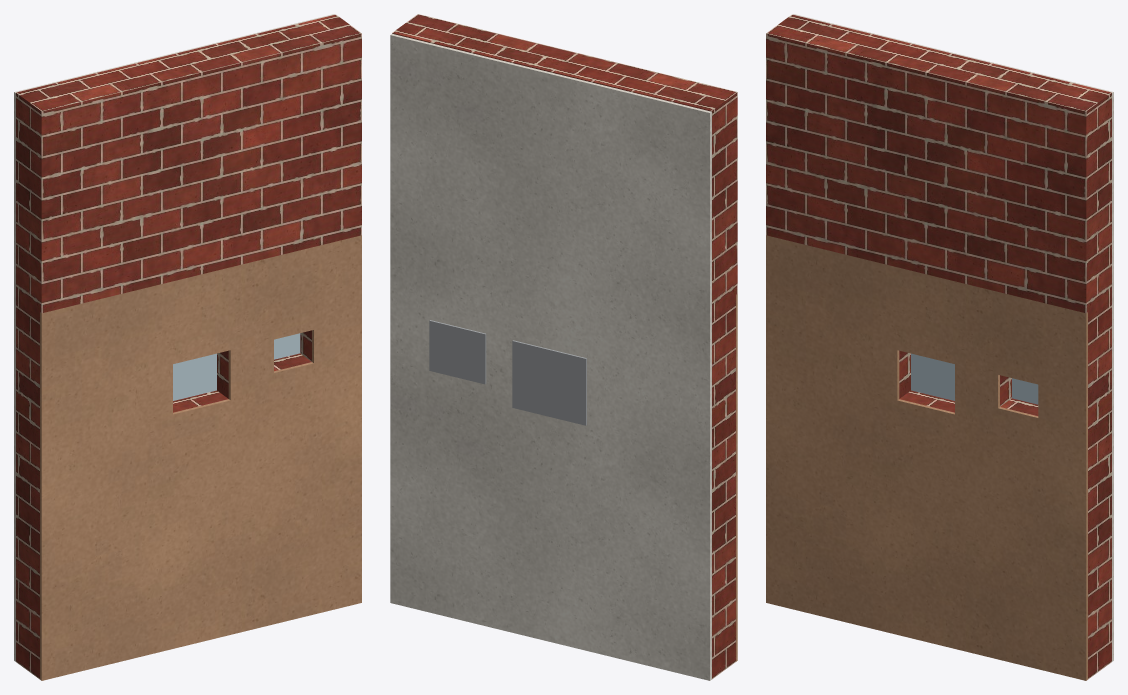
The model's file is b_u2_port.glb.
The picture shows the model from 3 angles, left to right: view 1: azimuth 30°, elevation 25°; view 2: azimuth 150°, elevation 25°; view 3: azimuth 330°, elevation 25°; orthographic projection.
Visible parts, largest first — view 1: b_u2_port_aplaster, b_u2_port_brick, b_u2_port_glass, b_u2_port_plaster; view 2: b_u2_port_plaster, b_u2_port_brick, b_u2_port_steel, b_u2_port_aplaster; view 3: b_u2_port_aplaster, b_u2_port_brick, b_u2_port_glass, b_u2_port_plaster.
Boxes of the visible parts, left/top/right/bottom form: b_u2_port_aplaster: left=40, top=235, right=361, bottom=680; b_u2_port_brick: left=16, top=14, right=361, bottom=679; b_u2_port_glass: left=173, top=333, right=300, bottom=400; b_u2_port_plaster: left=14, top=14, right=334, bottom=661; b_u2_port_plaster: left=390, top=33, right=711, bottom=680; b_u2_port_brick: left=392, top=14, right=737, bottom=679; b_u2_port_steel: left=429, top=320, right=586, bottom=425; b_u2_port_aplaster: left=736, top=294, right=737, bottom=661; b_u2_port_aplaster: left=766, top=235, right=1087, bottom=680; b_u2_port_brick: left=766, top=14, right=1111, bottom=679; b_u2_port_glass: left=911, top=353, right=1038, bottom=404; b_u2_port_plaster: left=793, top=14, right=1113, bottom=661.
Size of the model in its own units: 2 by 3.4 by 0.31.
5 materials, 3 textured.
